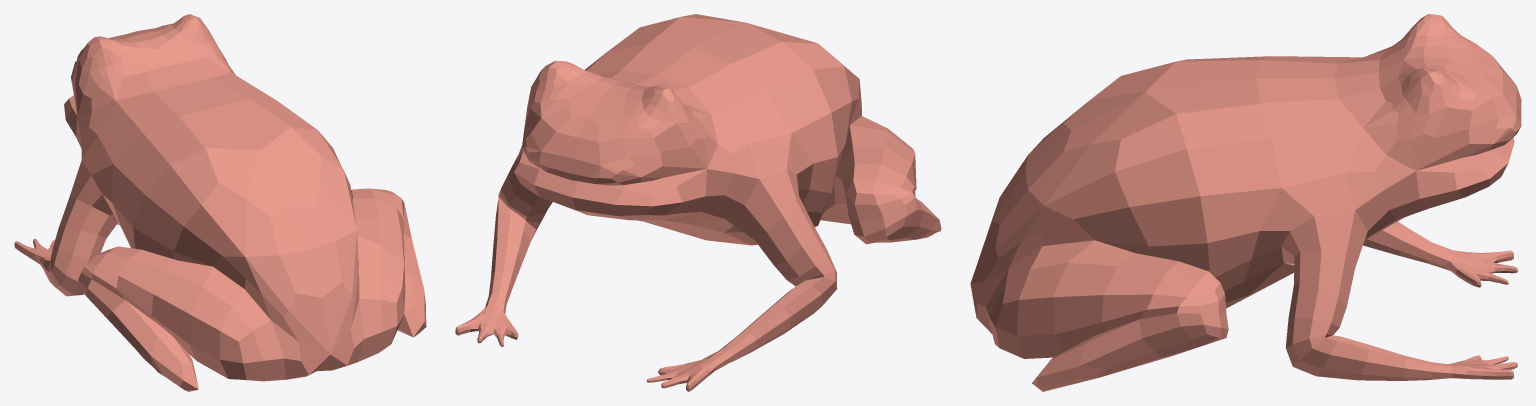
Rendered from Frog_1.1.fbx.
3 views of the same model, side by side, from view 1: azimuth 30°, elevation 25°; view 2: azimuth 150°, elevation 25°; view 3: azimuth 270°, elevation 25° (orthographic). The views are drawn at different scales.
Parts seen in each view (by area): view 1: frog.001; view 2: frog.001; view 3: frog.001.
Part boxes in pixels (x1,y1,x2,y2): frog.001: [14, 14, 426, 391]; frog.001: [455, 14, 941, 391]; frog.001: [970, 14, 1521, 391].
Size of the model in its own units: 73 by 49.52 by 87.36.
